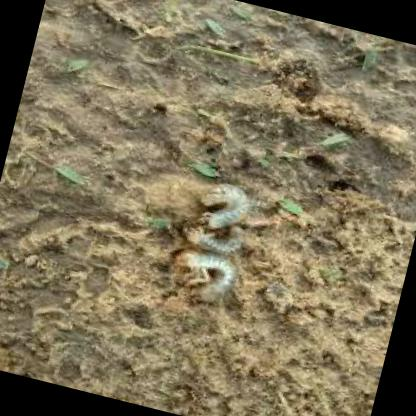root grubs: (206, 185, 251, 231)
